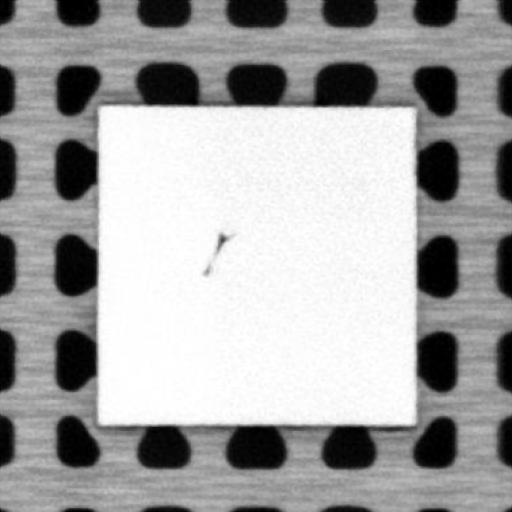DIE_INK: (200, 230, 229, 274)
